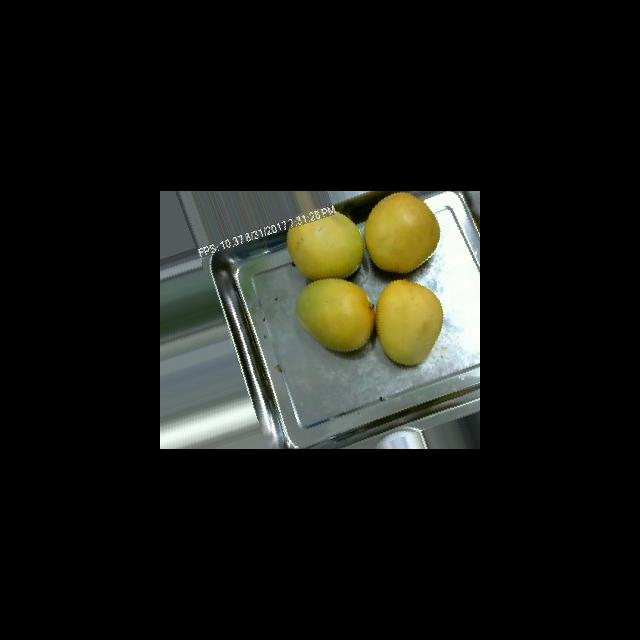mango: (364, 191, 440, 273), (295, 277, 375, 352), (375, 279, 443, 366), (286, 211, 364, 280)
